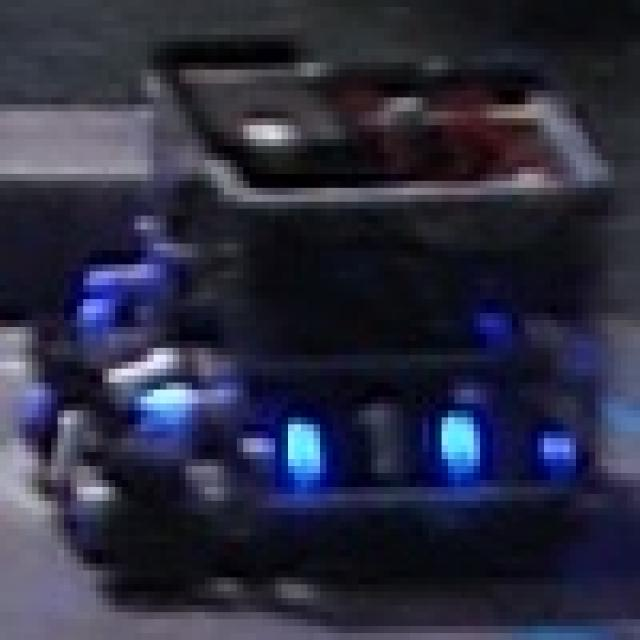B1: (269, 379, 493, 491), (80, 289, 195, 421), (32, 386, 96, 497)
